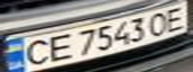3: (127, 16, 151, 44)
4: (112, 18, 136, 47)
5: (93, 22, 118, 52)
7: (72, 26, 100, 56)
C: (15, 36, 54, 69)
E: (39, 32, 75, 63), (160, 3, 193, 33)
O: (145, 9, 175, 37)
